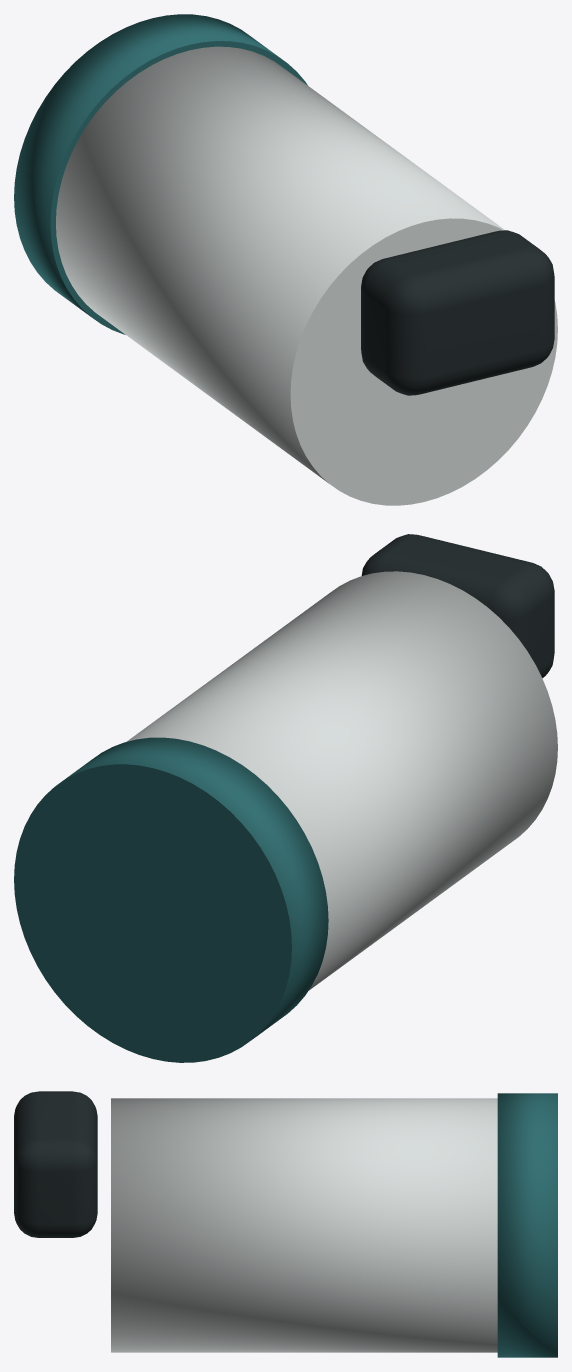
File: optical_head.glb
The picture shows the model from 3 angles, top to bottom: view 1: azimuth 30°, elevation 25°; view 2: azimuth 150°, elevation 25°; view 3: azimuth 270°, elevation 25°; orthographic projection. The views are drawn at different scales.
Visible parts, largest first — view 1: camera_column, monitor_pivot, camera_collared_base; view 2: camera_column, camera_collared_base, monitor_pivot; view 3: camera_column, camera_collared_base, monitor_pivot.
Boxes of the visible parts, x1,y1,x2,y2 form: camera_column: [56, 46, 557, 505]; monitor_pivot: [361, 230, 554, 395]; camera_collared_base: [14, 14, 307, 334]; camera_column: [126, 571, 557, 990]; camera_collared_base: [14, 737, 328, 1062]; monitor_pivot: [361, 534, 554, 677]; camera_column: [111, 1098, 497, 1352]; camera_collared_base: [497, 1093, 557, 1357]; monitor_pivot: [14, 1091, 97, 1237].
Size of the model in its own units: 0.079 by 0.079 by 0.1625.
